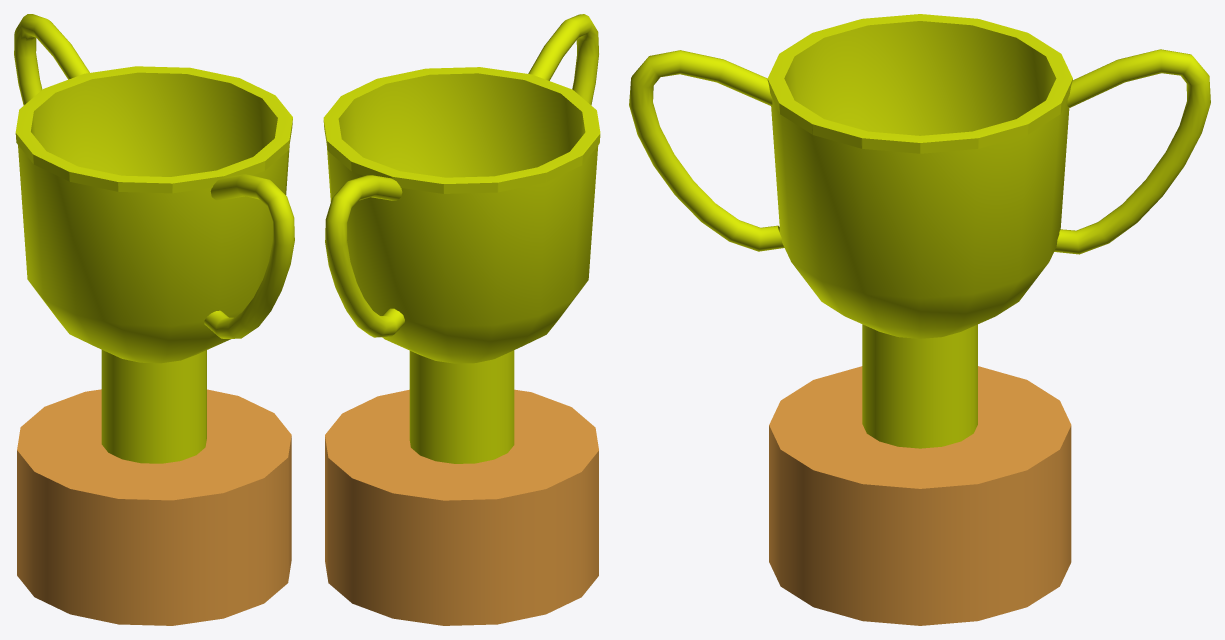
Rendered from Trophy.fbx.
The picture shows the model from 3 angles, left to right: view 1: azimuth 30°, elevation 25°; view 2: azimuth 150°, elevation 25°; view 3: azimuth 270°, elevation 25°; orthographic projection. The views are drawn at different scales.
Parts seen in each view (by area): view 1: TrophyBowl, TrophyBase, TrophyHandle_2, TrophyHandle_1; view 2: TrophyBowl, TrophyBase, TrophyHandle_1, TrophyHandle_2; view 3: TrophyBowl, TrophyBase, TrophyHandle_1, TrophyHandle_2.
Boxes of the visible parts, x1,y1,x2,y2 form: TrophyBowl: (15, 66, 292, 463); TrophyBase: (17, 389, 291, 625); TrophyHandle_2: (204, 174, 294, 338); TrophyHandle_1: (14, 14, 89, 105); TrophyBowl: (323, 67, 600, 463); TrophyBase: (325, 389, 598, 625); TrophyHandle_1: (325, 175, 404, 337); TrophyHandle_2: (528, 14, 598, 105); TrophyBowl: (767, 14, 1072, 448); TrophyBase: (769, 366, 1071, 625); TrophyHandle_1: (1054, 49, 1210, 254); TrophyHandle_2: (629, 50, 784, 251).
Bounding box in the file's own units: 17.38 × 32.11 × 33.12.
